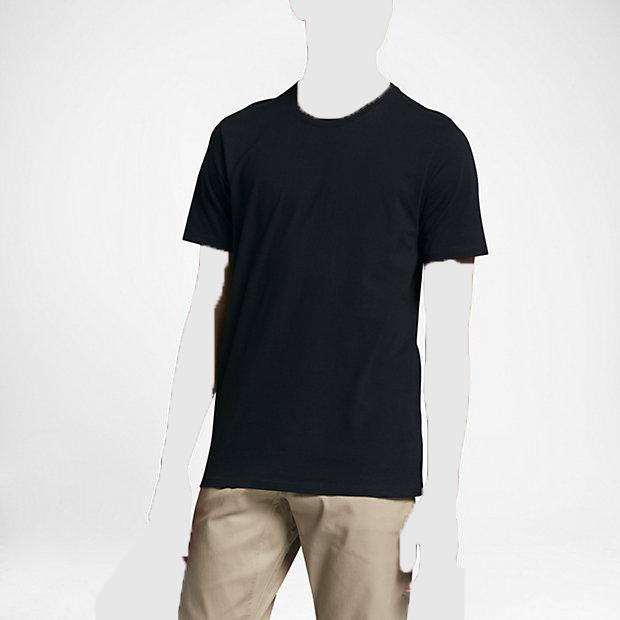teeshirt: (179, 80, 489, 506)
